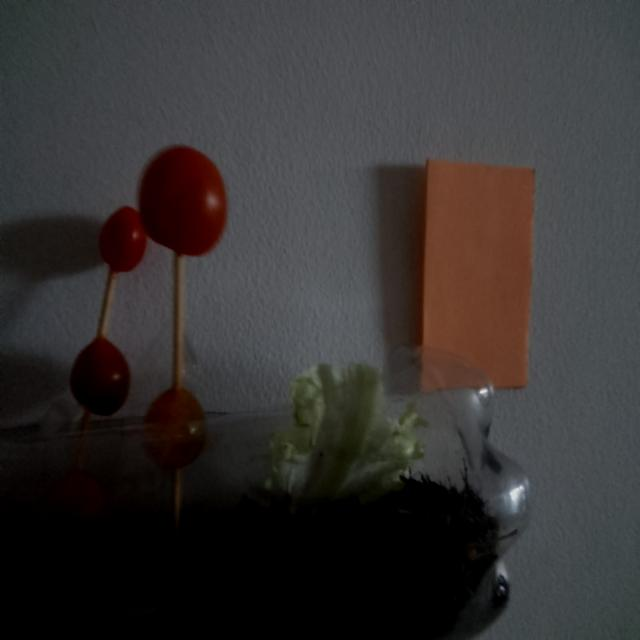card: (423, 159, 534, 386)
fruit_maturation: (144, 388, 206, 469)
fully_grown: (71, 337, 129, 415), (100, 206, 146, 272)
